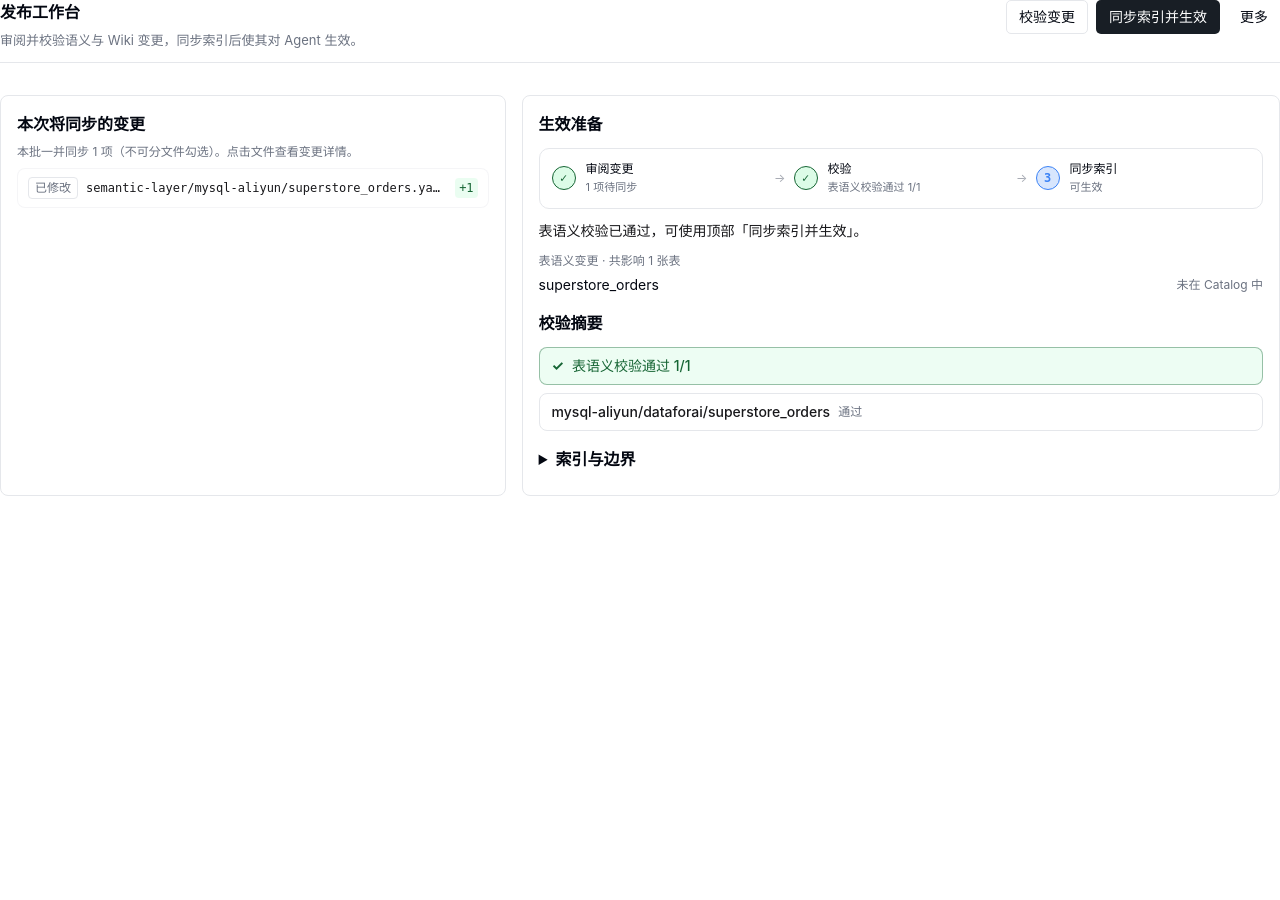
Test: PublishWorkbench › auto-validates and highlights publish CTA when validate gate passes
expect the text with test id "publish-gate-next-step" shows "校验已通过": met, box top-left (539, 222), bottom-right (868, 238)
Click the button with test id "workbench-publish-and-reindex" at [1158, 17], box top-left (1096, 0), bottom-right (1220, 34)
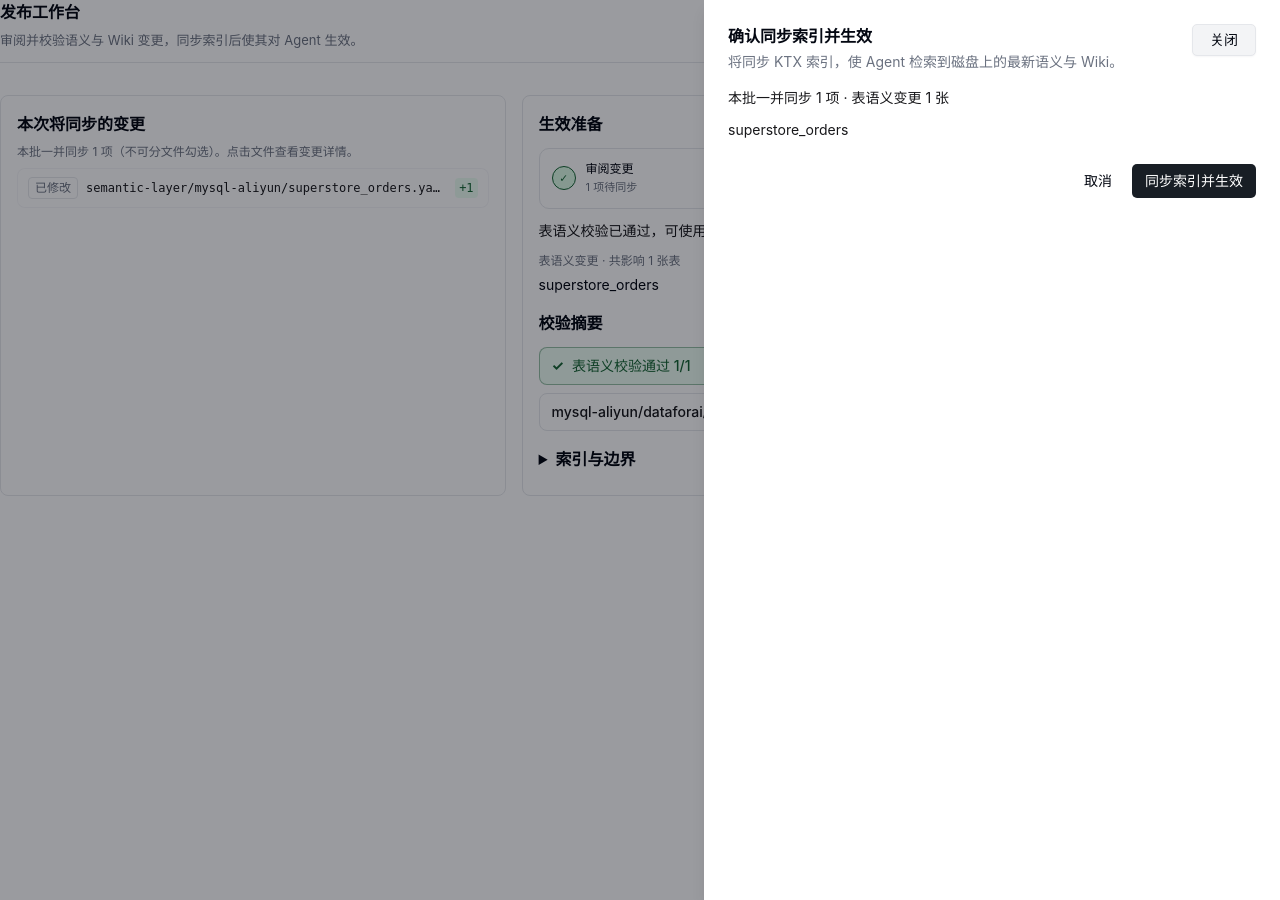
expect the text "确认同步索引并生效" is shown: met, box top-left (728, 26), bottom-right (872, 46)
expect the text with test id "workbench-publish-confirm-summary" shows "本批一并同步 1 项": met, box top-left (728, 89), bottom-right (949, 106)
Click the button with test id "workbench-publish-confirm-submit" at [1194, 181], box top-left (1132, 164), bottom-right (1256, 198)
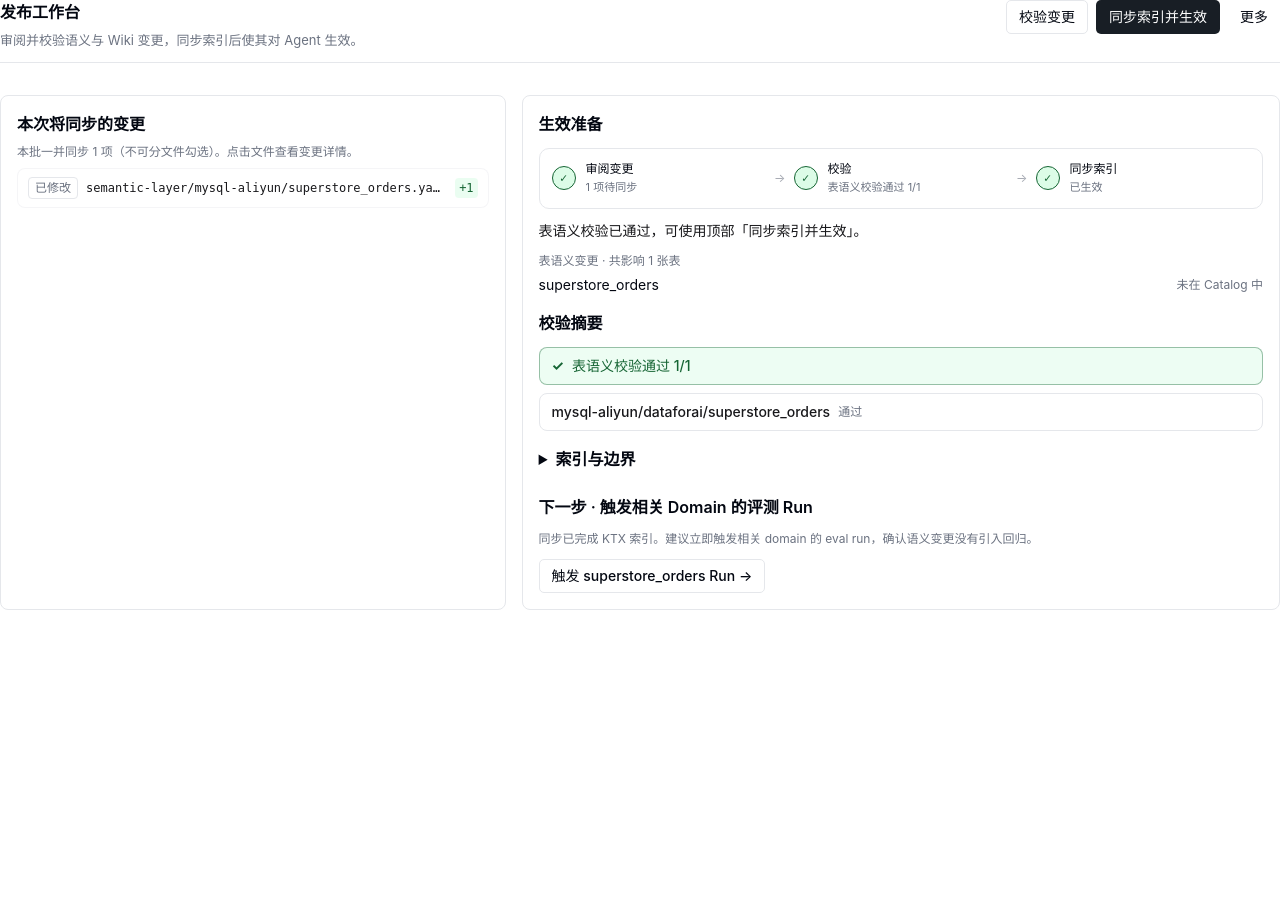
expect the element with test id "workbench-publish-confirm-drawer" is gone: met
